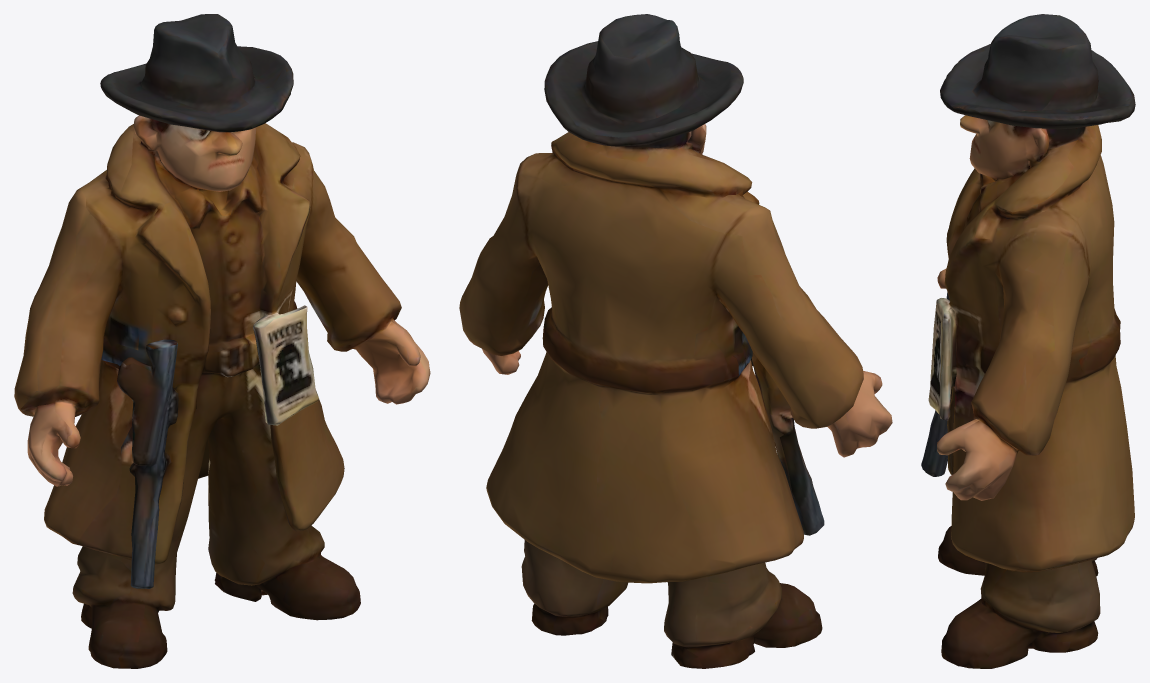
File: char_bounty_hunter.glb
3 renders of one model, left to right at view 1: azimuth 30°, elevation 25°; view 2: azimuth 150°, elevation 25°; view 3: azimuth 270°, elevation 25°, orthographic. The views are drawn at different scales.
Parts seen in each view (by area): view 1: geometry_0; view 2: geometry_0; view 3: geometry_0.
Boxes of the visible parts, x1,y1,x2,y2 form: geometry_0: [14, 14, 430, 668]; geometry_0: [459, 14, 892, 668]; geometry_0: [921, 14, 1135, 668].
Bounding box in the file's own units: 1.39 × 1.96 × 0.6549.
Materials: 1 (1 with a texture image).
